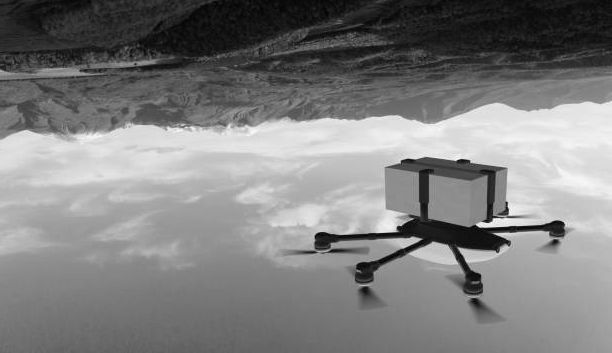Drone: (263, 209, 574, 335)
